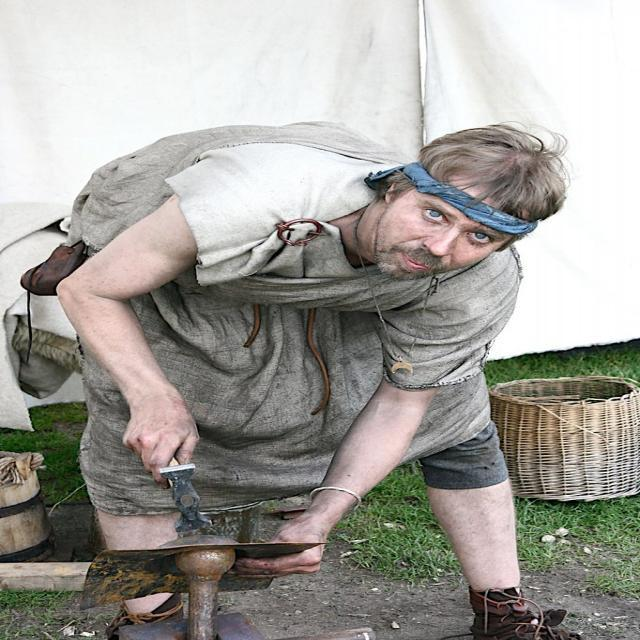hammer: (116, 440, 236, 540)
